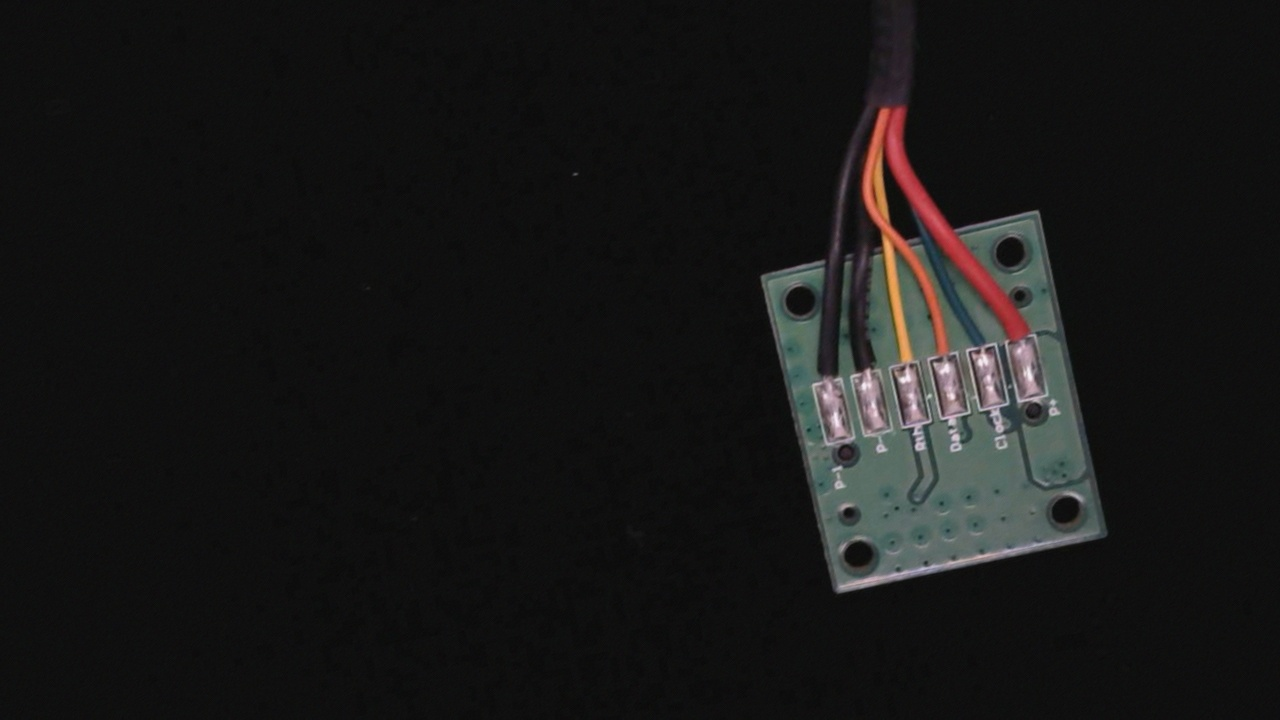Black: (843, 322, 882, 393)
Black1: (804, 339, 846, 401)
Green: (960, 303, 999, 369)
Orange: (921, 311, 961, 375)
Red: (999, 292, 1041, 359)
Yellow: (880, 313, 923, 386)
